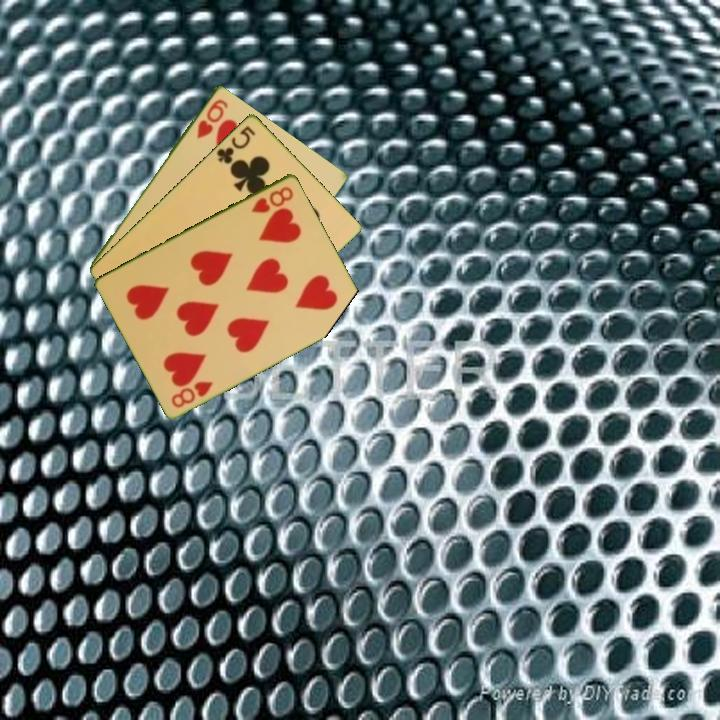5c: (213, 122, 258, 167)
6h: (193, 95, 231, 141)
8h: (247, 182, 297, 216), (167, 377, 216, 410)
